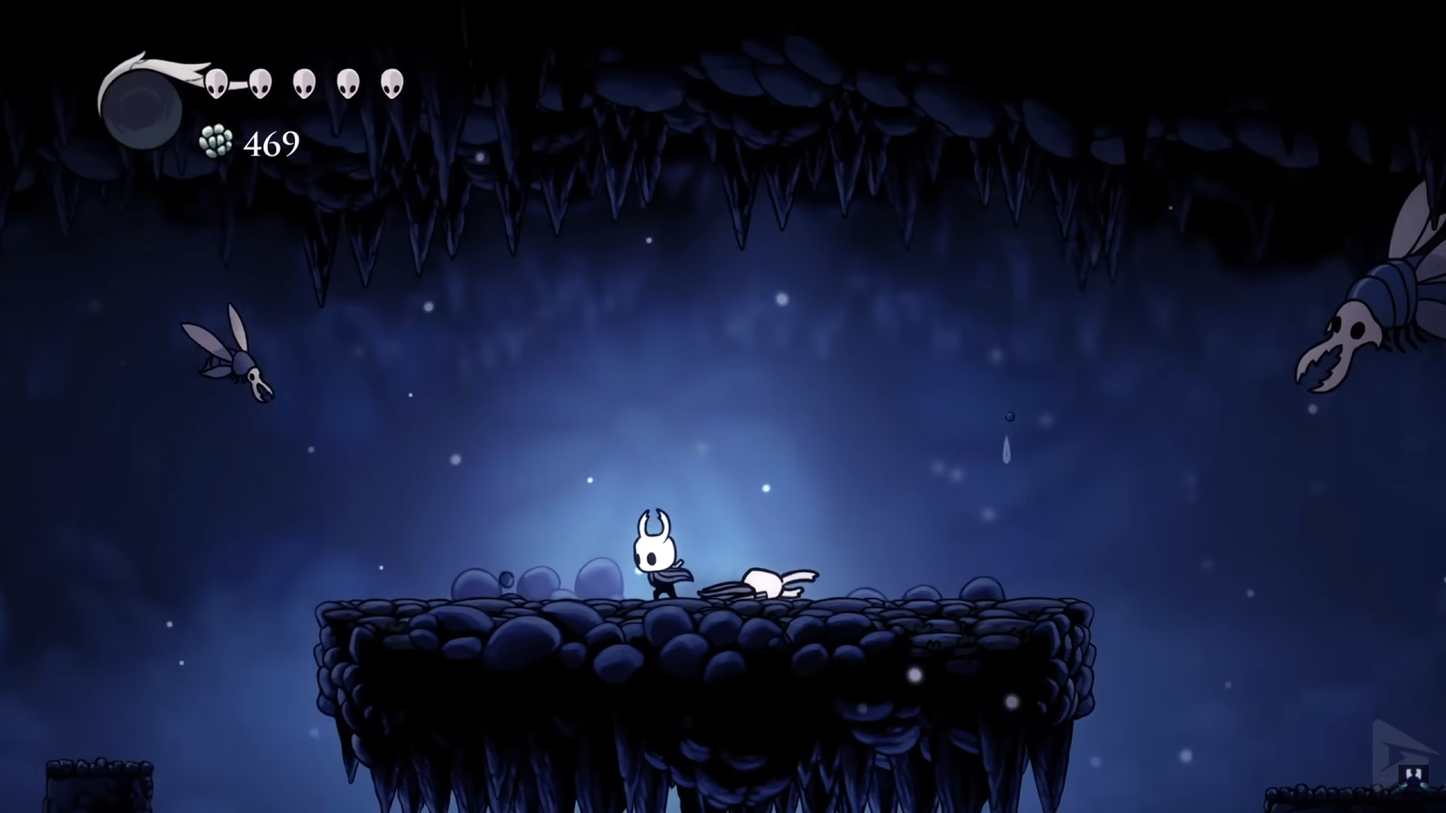HK: (627, 508, 687, 601)
